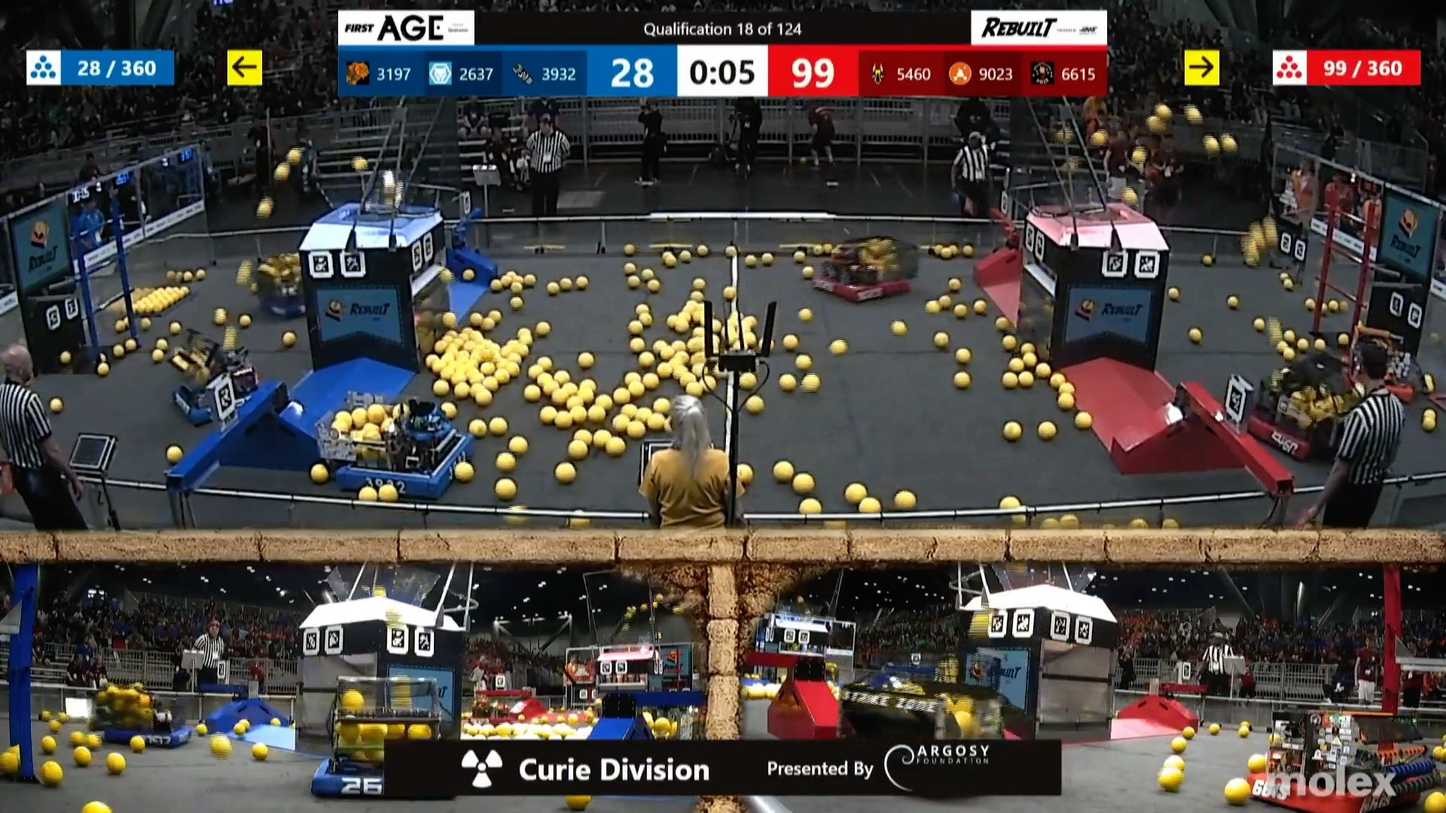bumpers: (1246, 756, 1446, 813), (334, 429, 474, 498), (1236, 401, 1361, 465), (161, 376, 285, 428), (304, 751, 401, 802), (801, 268, 917, 306), (99, 715, 205, 753), (257, 291, 331, 321)
